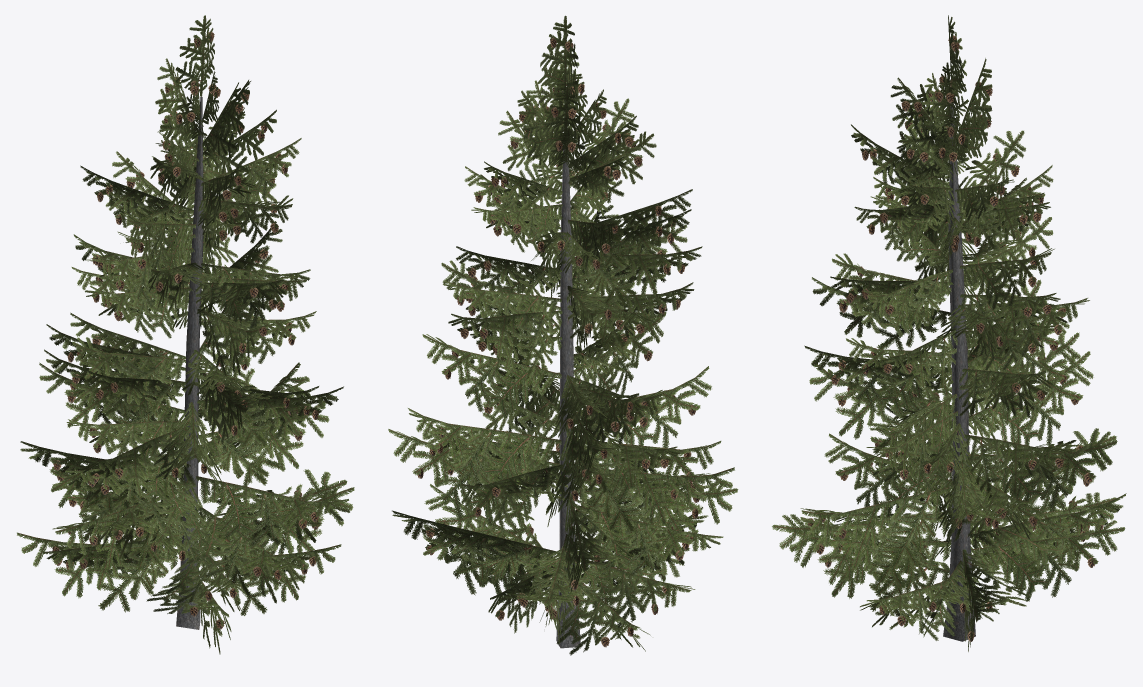
The model's file is Pinus_Contorta_Autumn_Young.glb.
The picture shows the model from 3 angles, left to right: view 1: azimuth 30°, elevation 25°; view 2: azimuth 150°, elevation 25°; view 3: azimuth 270°, elevation 25°; orthographic projection. The views are drawn at different scales.
Visible parts, largest first — view 1: Pinus_Contorta_Autumn_Young__LOD3; view 2: Pinus_Contorta_Autumn_Young__LOD3; view 3: Pinus_Contorta_Autumn_Young__LOD3.
Part boxes in pixels (bbox=[...]): Pinus_Contorta_Autumn_Young__LOD3: bbox=[17, 15, 354, 654]; Pinus_Contorta_Autumn_Young__LOD3: bbox=[388, 15, 738, 655]; Pinus_Contorta_Autumn_Young__LOD3: bbox=[772, 15, 1126, 651].
Bounding box in the file's own units: 9.38 × 17.46 × 9.09.
Materials: 3 (3 with a texture image).
